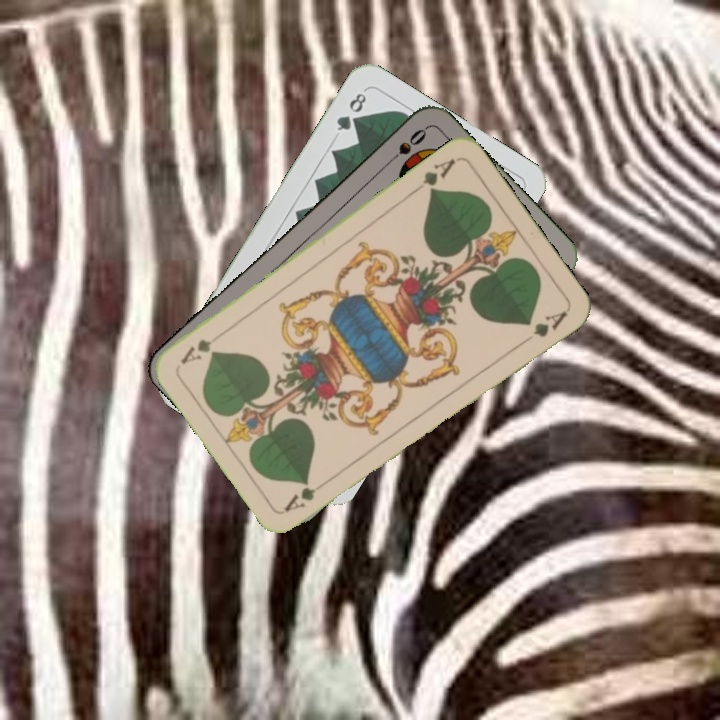G8: (332, 88, 369, 134)
GA: (280, 475, 333, 515), (409, 154, 459, 196)
SO: (381, 124, 430, 169)
